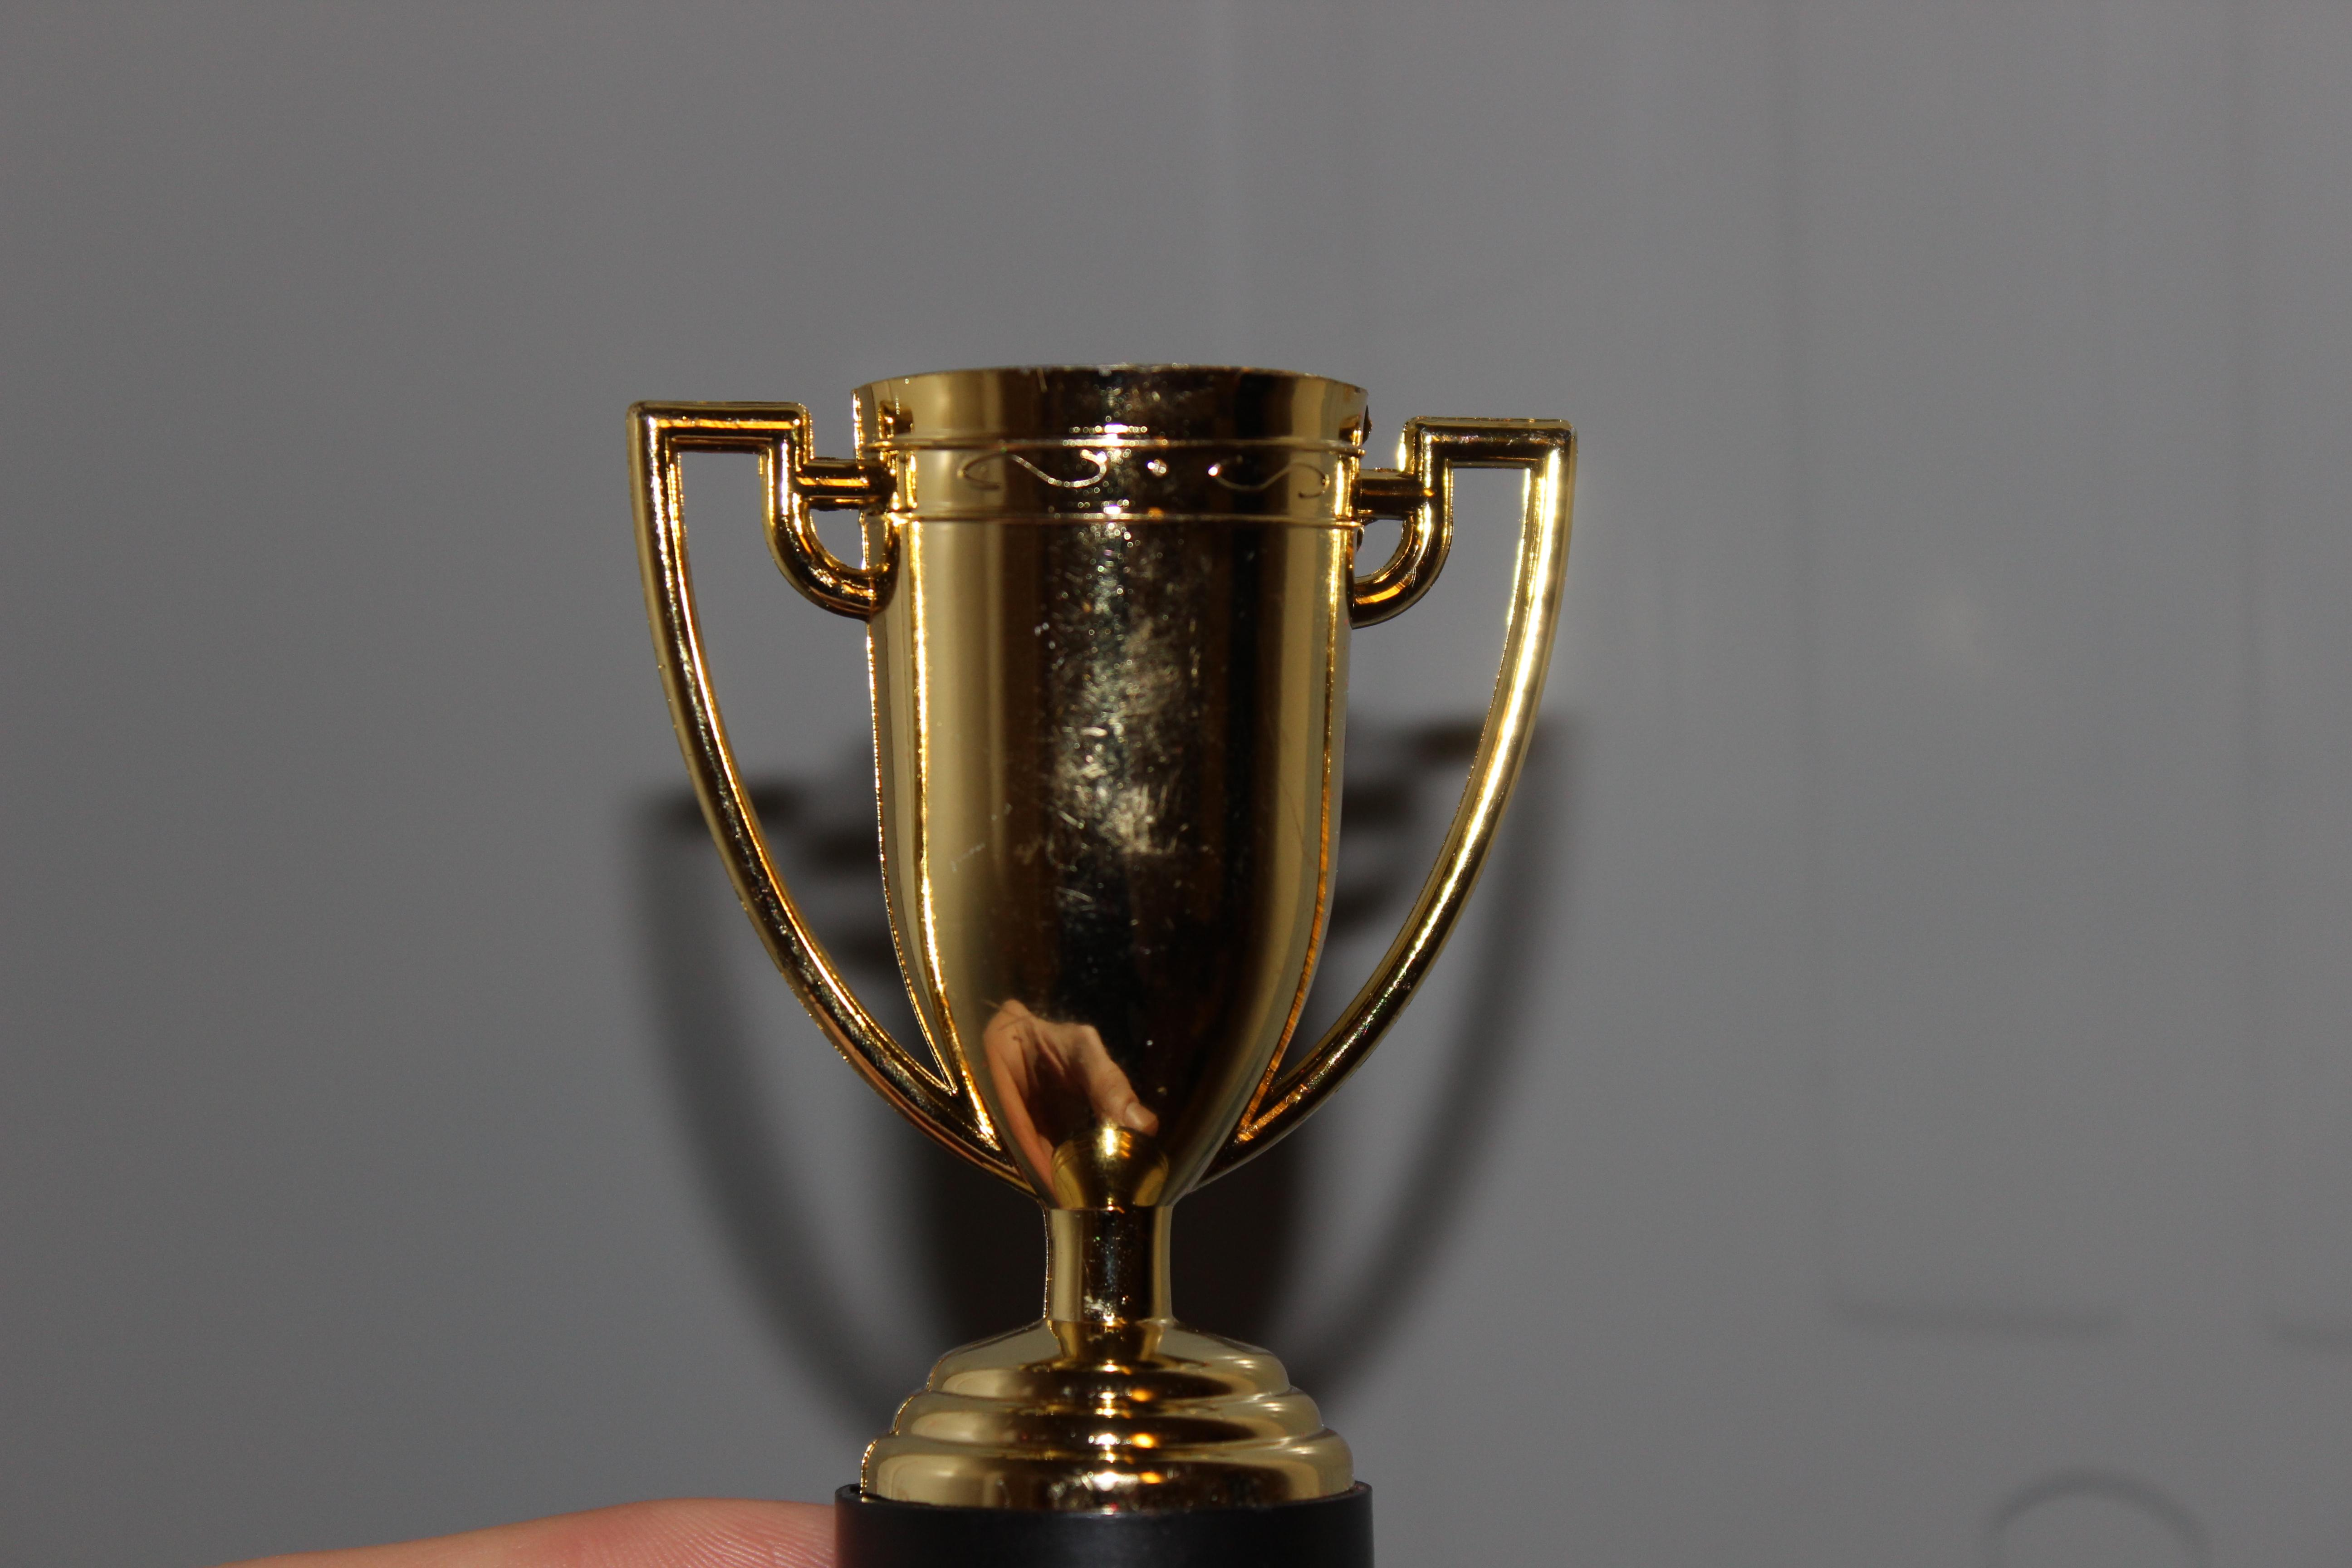trophy: (574, 292, 1615, 1568)
